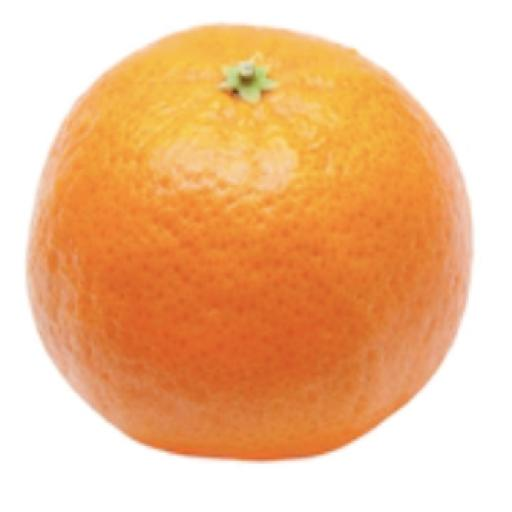orange: (28, 27, 470, 459)
